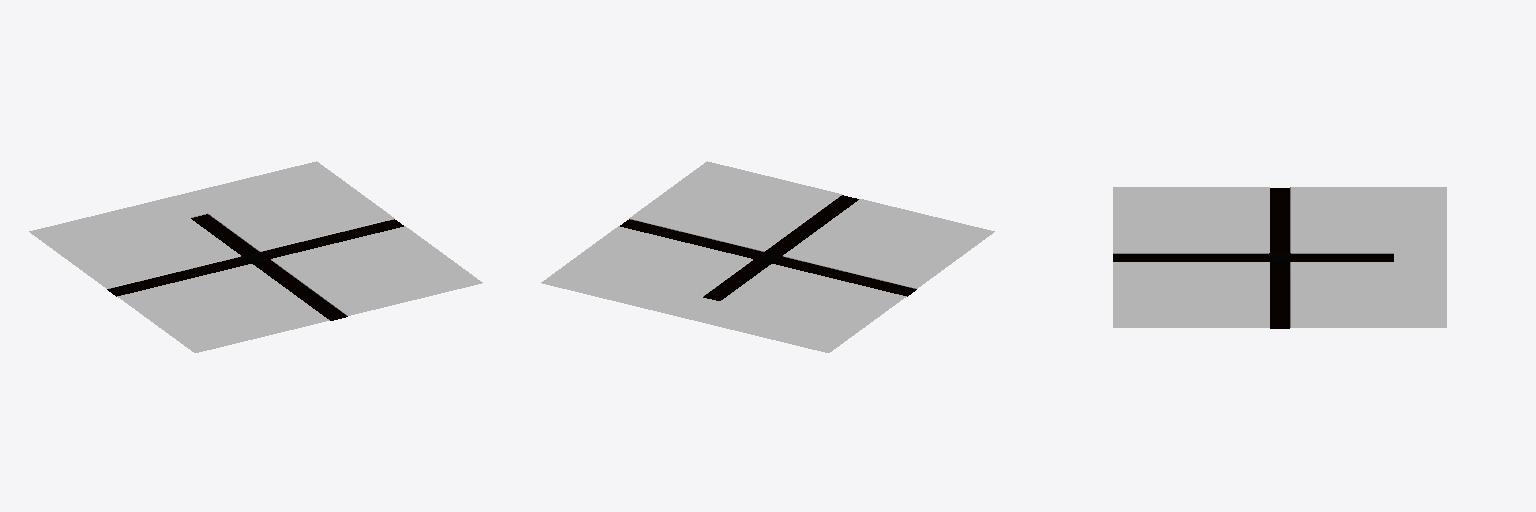
Rendered from Ground.obj.
The picture shows the model from 3 angles: view 1: azimuth 30°, elevation 25°; view 2: azimuth 150°, elevation 25°; view 3: azimuth 270°, elevation 25°; orthographic projection.
Visible parts, largest first — view 1: Plane; view 2: Plane; view 3: Plane.
Boxes of the visible parts, x1,y1,x2,y2 form: Plane: [29, 161, 482, 352]; Plane: [541, 161, 994, 352]; Plane: [1113, 187, 1446, 328].
Size of the model in its own units: 37.64 by 0.6331 by 37.64.